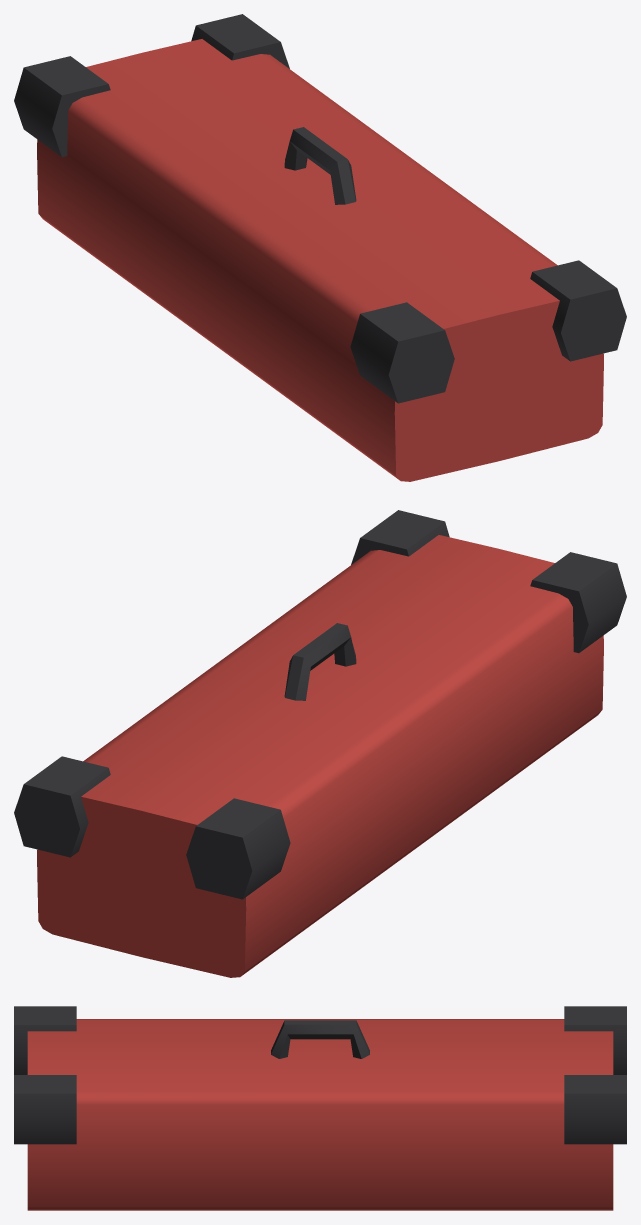
Rendered from alu_pannier_lid.glb.
The picture shows the model from 3 angles, top to bottom: view 1: azimuth 30°, elevation 25°; view 2: azimuth 150°, elevation 25°; view 3: azimuth 270°, elevation 25°; orthographic projection. The views are drawn at different scales.
Parts seen in each view (by area): view 1: lod0; view 2: lod0; view 3: lod0.
Boxes of the visible parts, x1,y1,x2,y2 form: lod0: (14,14,626,481); lod0: (14,510,626,977); lod0: (14,1006,626,1210).
Size of what is drawn, in the model's own units: 0.18 by 0.1341 by 0.49.
